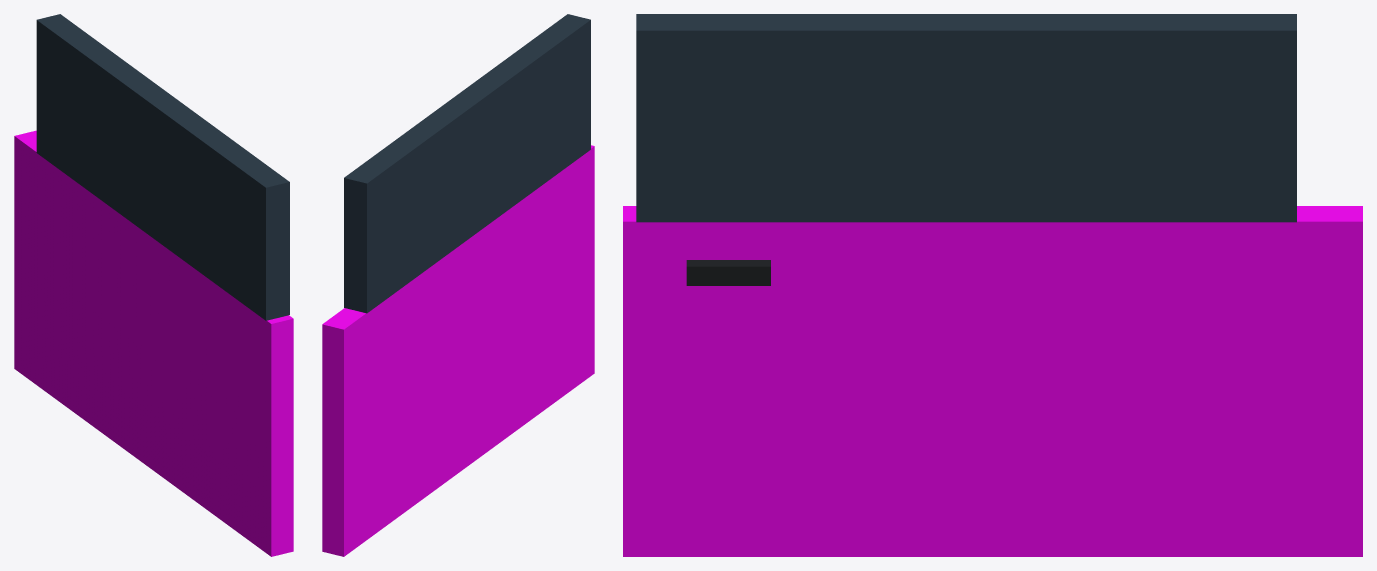
The model's file is car-door-van.obj.
3 views of the same model, side by side, from view 1: azimuth 30°, elevation 25°; view 2: azimuth 150°, elevation 25°; view 3: azimuth 270°, elevation 25° (orthographic). The views are drawn at different scales.
Parts seen in each view (by area): view 1: part1, part2.nocast; view 2: part1, part2.nocast; view 3: part1, part2.nocast, part3.nocast.
Part boxes in pixels (x1,y1,x2,y2): part1: [14, 130, 293, 556]; part2.nocast: [36, 14, 289, 320]; part1: [322, 145, 594, 556]; part2.nocast: [344, 14, 590, 313]; part1: [623, 206, 1362, 556]; part2.nocast: [636, 14, 1296, 222]; part3.nocast: [686, 260, 770, 285].
Bounding box in the file's own units: 0.1025 × 1.1 × 1.4.
